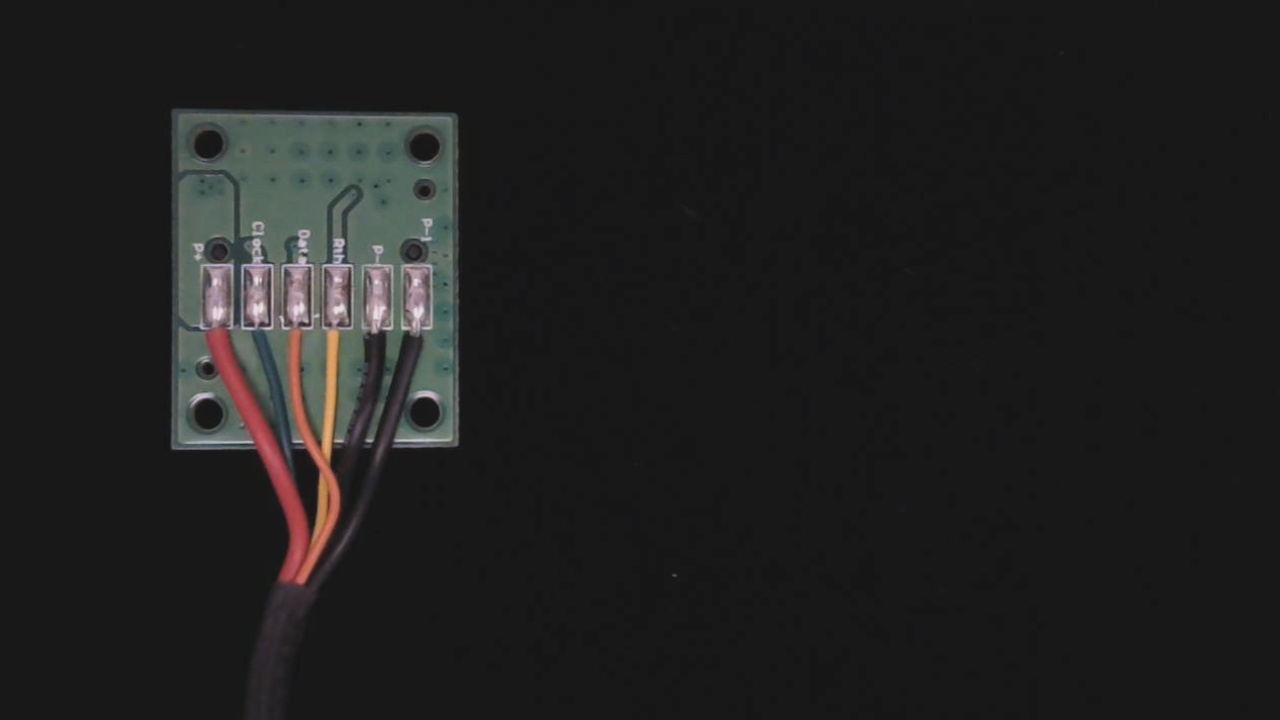Black: (367, 310, 397, 374)
Black1: (409, 312, 442, 371)
Green: (243, 310, 279, 365)
Orange: (286, 309, 318, 369)
Red: (199, 311, 235, 370)
Yellow: (325, 310, 359, 375)
